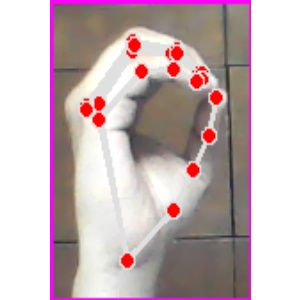O: (53, 2, 247, 300)
